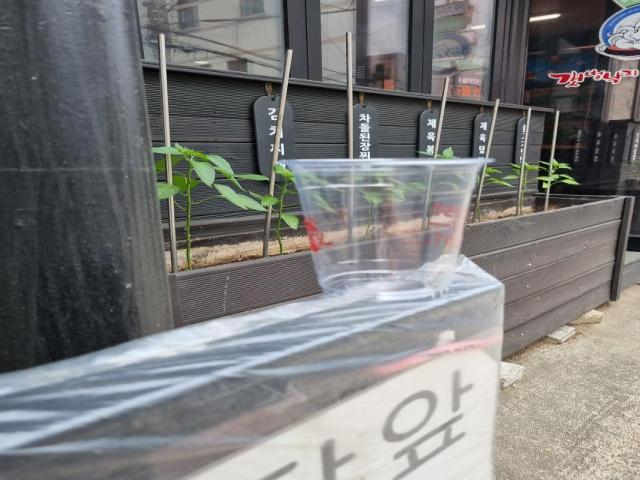cup: (273, 152, 508, 307)
